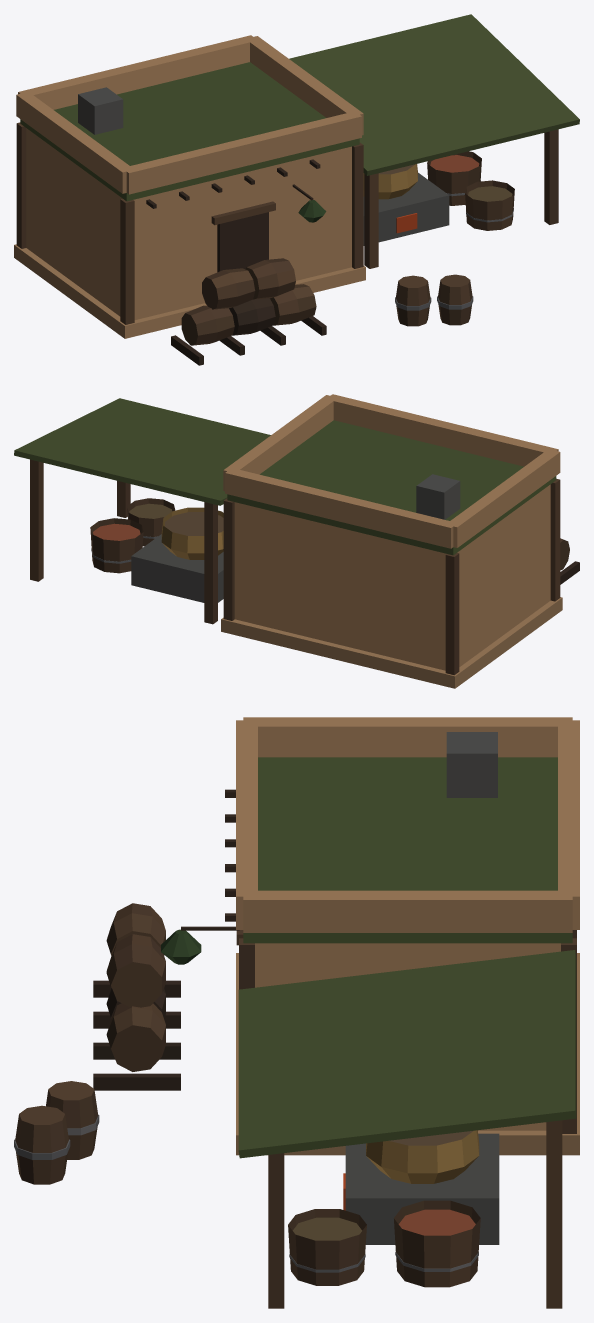
File: walk_steppe_brewery.glb
3 renders of one model, top to bottom at view 1: azimuth 30°, elevation 25°; view 2: azimuth 150°, elevation 25°; view 3: azimuth 270°, elevation 25°, orthographic. The views are drawn at different scales.
Visible parts, largest first — view 1: walk_steppe_brewery, walk_steppe_brewery_roof; view 2: walk_steppe_brewery, walk_steppe_brewery_roof; view 3: walk_steppe_brewery_roof, walk_steppe_brewery.
Boxes of the visible parts, x1=… form: walk_steppe_brewery: x1=14, y1=122, x2=558, y2=365; walk_steppe_brewery_roof: x1=16, y1=14, x2=579, y2=201; walk_steppe_brewery: x1=30, y1=459, x2=579, y2=688; walk_steppe_brewery_roof: x1=14, y1=394, x2=560, y2=555; walk_steppe_brewery_roof: x1=236, y1=717, x2=579, y2=1158; walk_steppe_brewery: x1=14, y1=789, x2=579, y2=1308.
Size of what is drawn, in the model's own units: 11.15 by 4.06 by 7.73.
2 materials, 2 textured.
